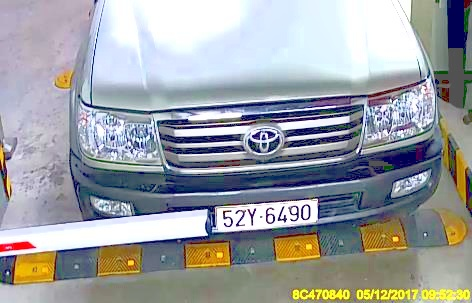plate: (211, 203, 319, 231)
